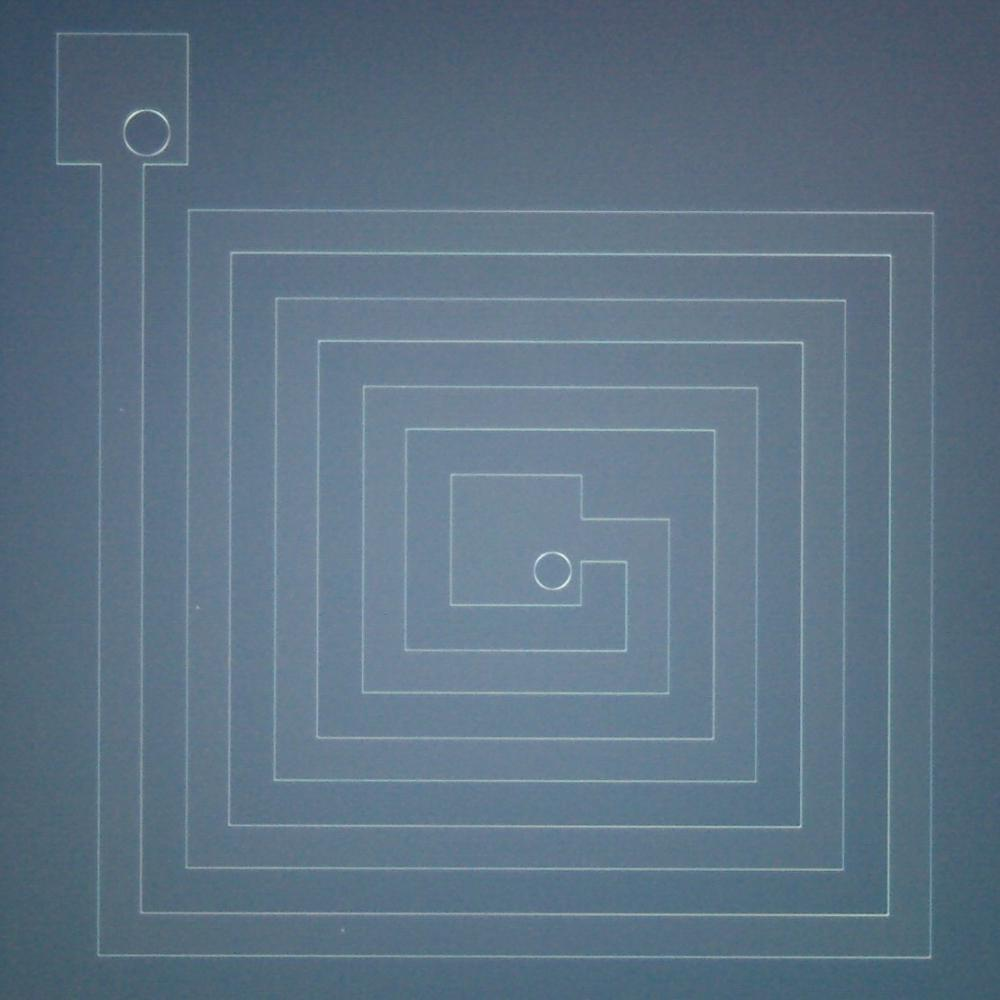dot: (195, 604, 201, 610), (340, 928, 346, 933)
